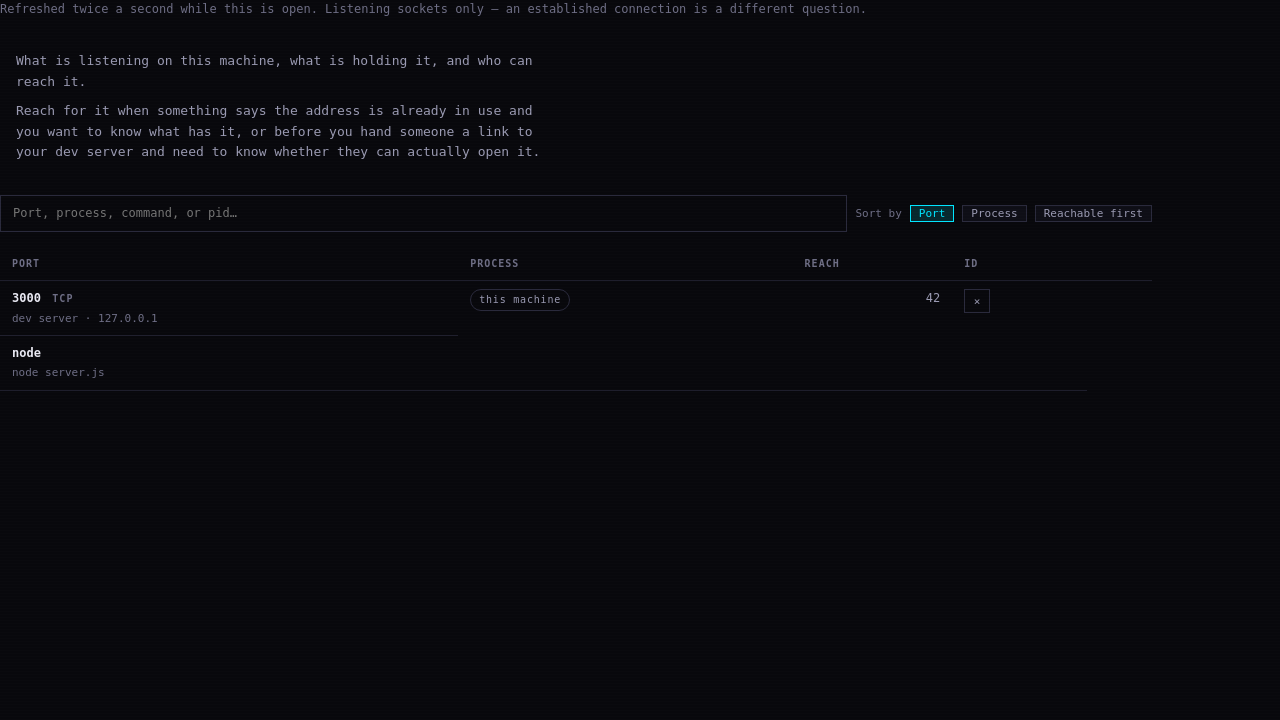
PortsTool › backs out without ending anything
The image size is (1280, 720).
expect the text "3000" is shown: met, box [12,291,41,305]
Click the button named "free port 3000".
click(977, 301)  # box [964,289,990,313]
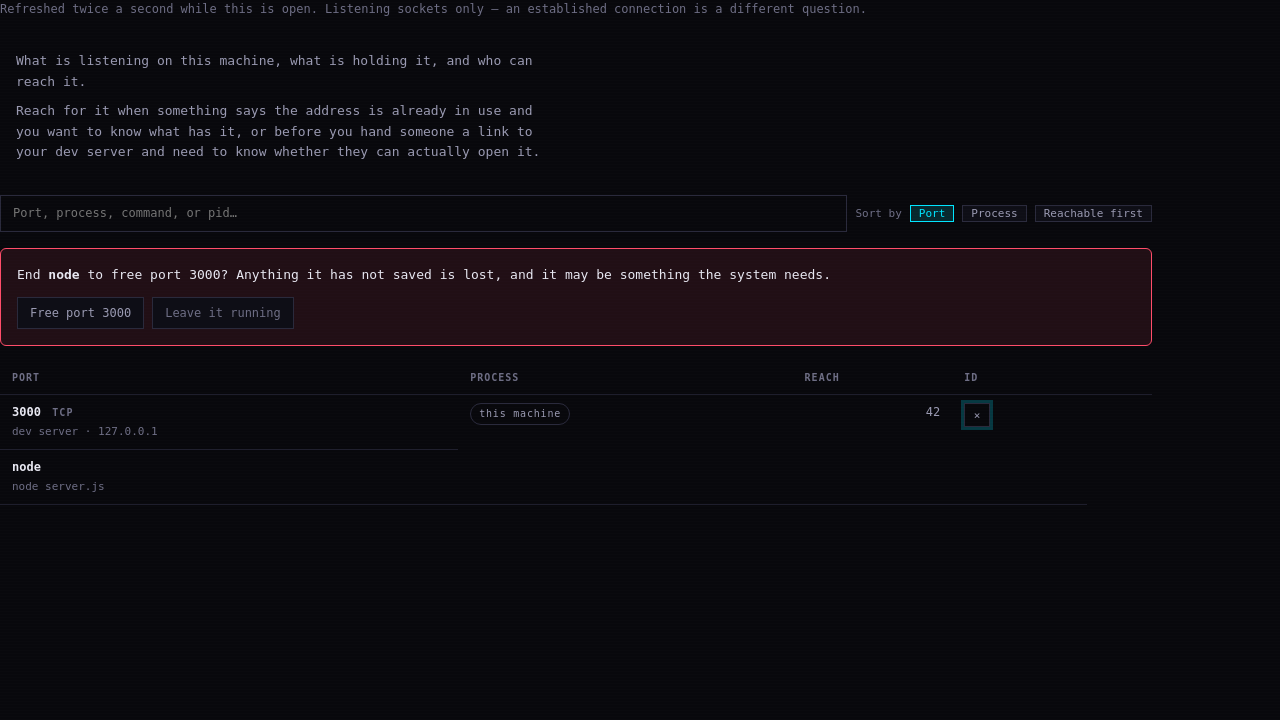
Click the button "Leave it running".
click(223, 313)  # box [152,297,294,329]
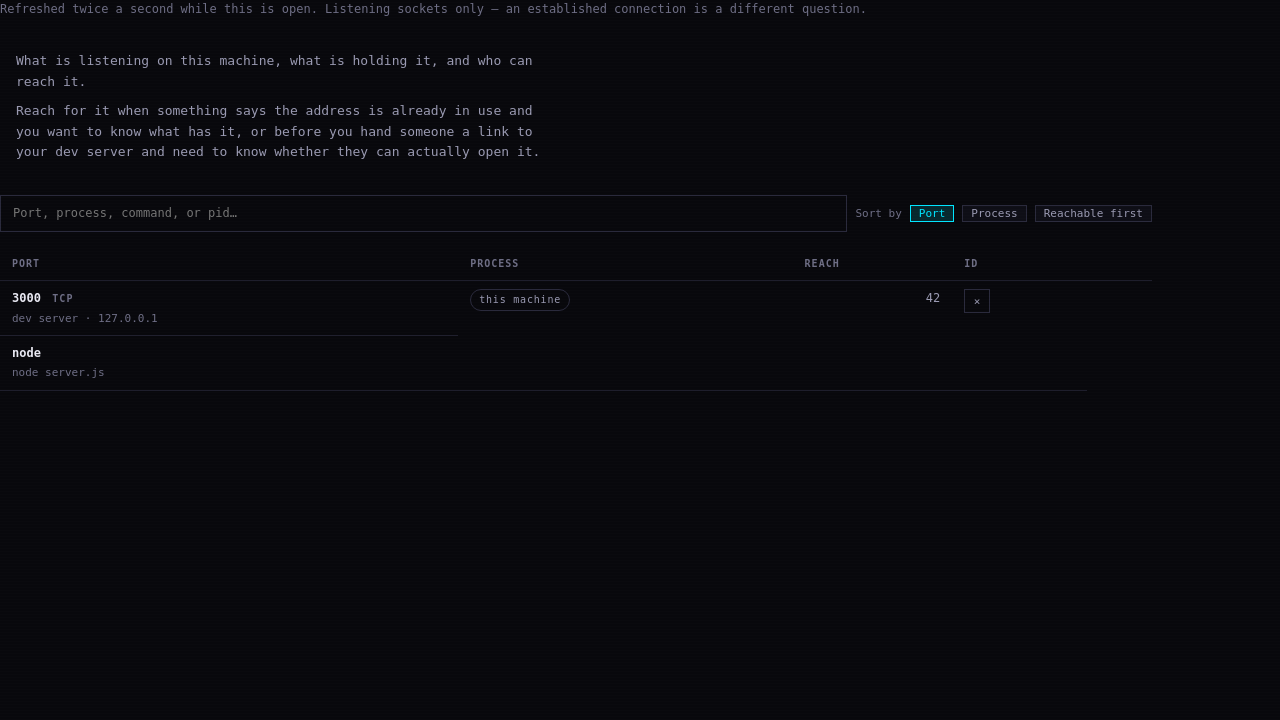
expect the dialog is gone: met
